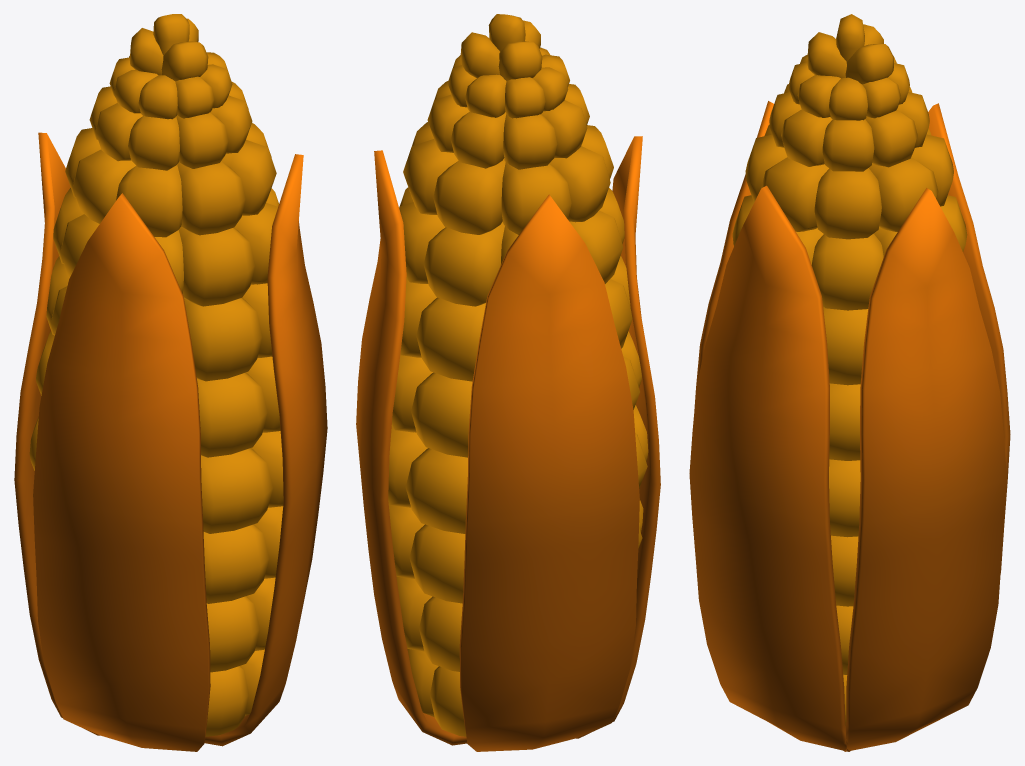
The model's file is Corn.fbx.
3 renders of one model, left to right at view 1: azimuth 30°, elevation 25°; view 2: azimuth 150°, elevation 25°; view 3: azimuth 270°, elevation 25°, orthographic.
Visible parts, largest first — view 1: Corn; view 2: Corn; view 3: Corn.
Boxes of the visible parts, x1,y1,x2,y2 form: Corn: [14, 14, 327, 751]; Corn: [356, 14, 660, 751]; Corn: [689, 14, 1010, 751].
Bounding box in the file's own units: 90.96 × 87.73 × 211.
